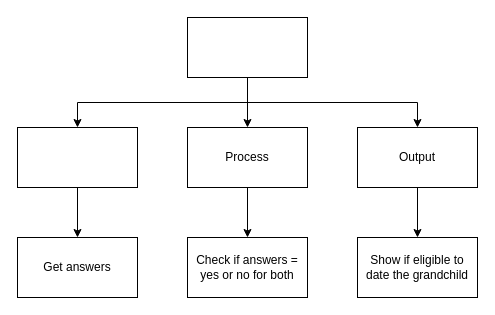
Some shapes in this 495 by 315 pixel diagram are drawn without their labels. Each missing label, with the box of its shape:
Can you date my grandchild?: (186, 16, 308, 78)
Input: (16, 126, 138, 188)
